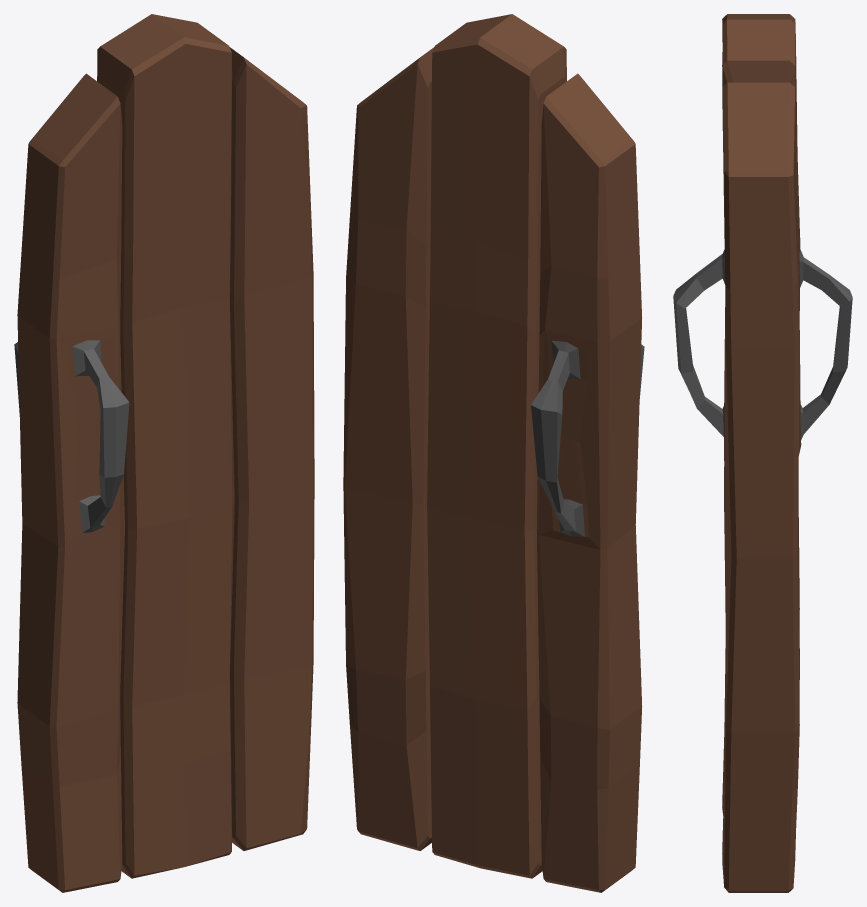
The model's file is WoodenDoor.fbx.
3 renders of one model, left to right at view 1: azimuth 30°, elevation 25°; view 2: azimuth 150°, elevation 25°; view 3: azimuth 270°, elevation 25°, orthographic.
Parts seen in each view (by area): view 1: WoodenDoor; view 2: WoodenDoor; view 3: WoodenDoor.
Part boxes in pixels (x1,y1,x2,y2): WoodenDoor: [14, 14, 314, 892]; WoodenDoor: [343, 14, 644, 892]; WoodenDoor: [673, 14, 852, 892].
Size of the model in its own units: 78.96 by 234 by 46.47.
Materials: 1 (1 with a texture image).
